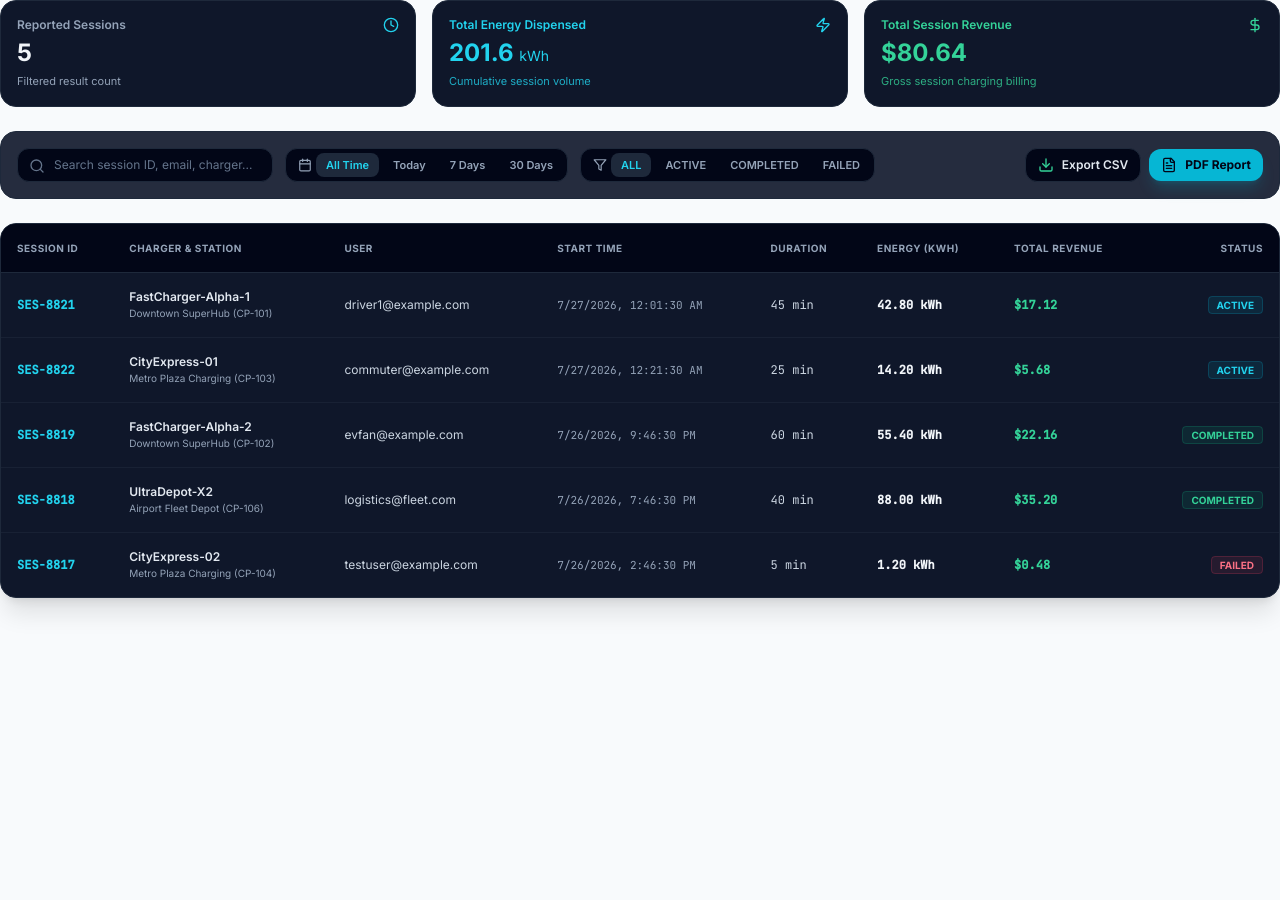
Scenario: VendorUserOperationsPage & Components › renders SessionReportingTable and filters by date and status
Expected: the text "Reported Sessions" is shown, [17,17,126,33]
Expected: the text "SES-8821" is shown, [1,272,113,337]
Type "SES-8821" into the field with placeholder "Search session ID, email, charger..." at [145, 164], box [17,148,273,182]
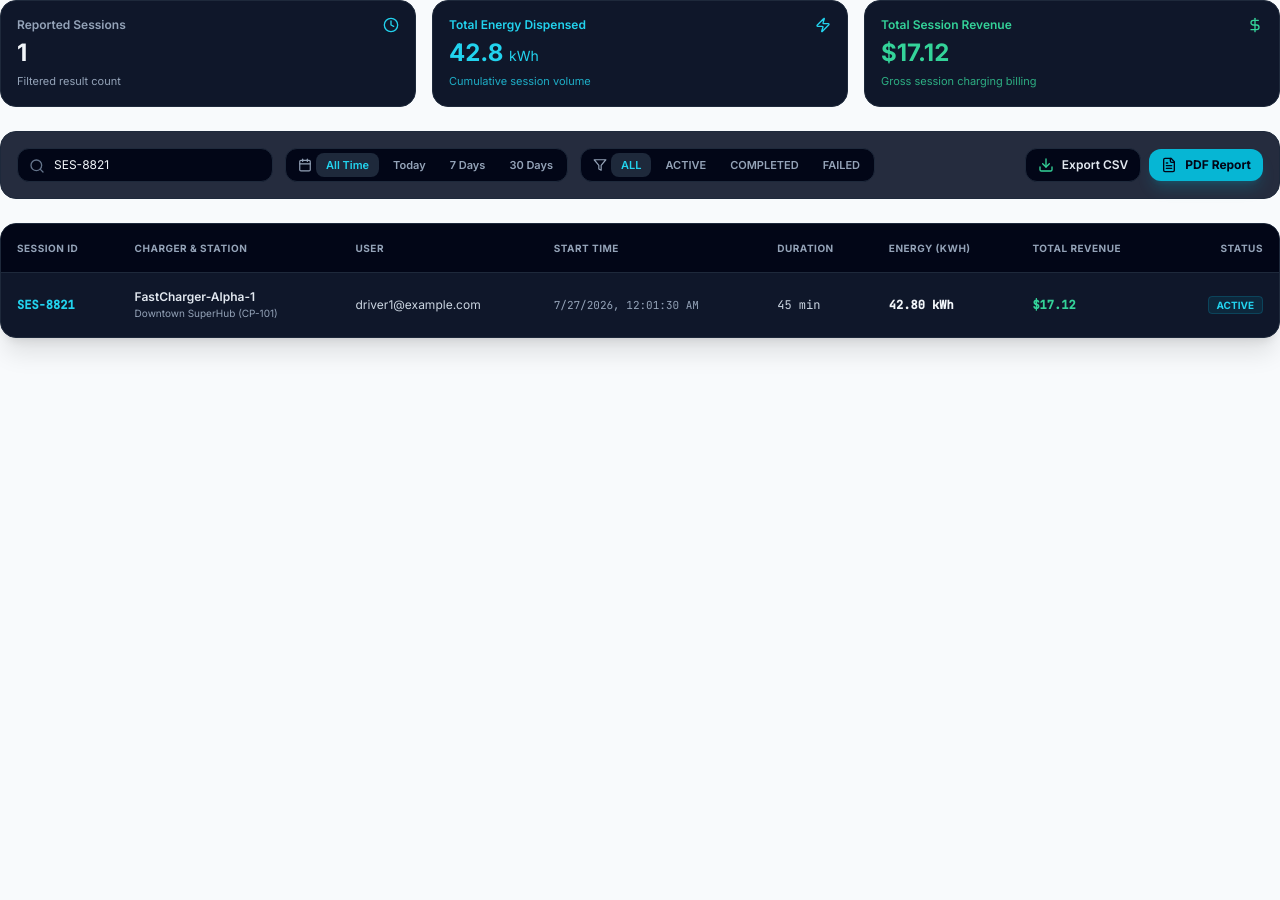
Expected: the text "SES-8821" is shown, [1,272,119,336]
Expected: the text "SES-8822" is gone
